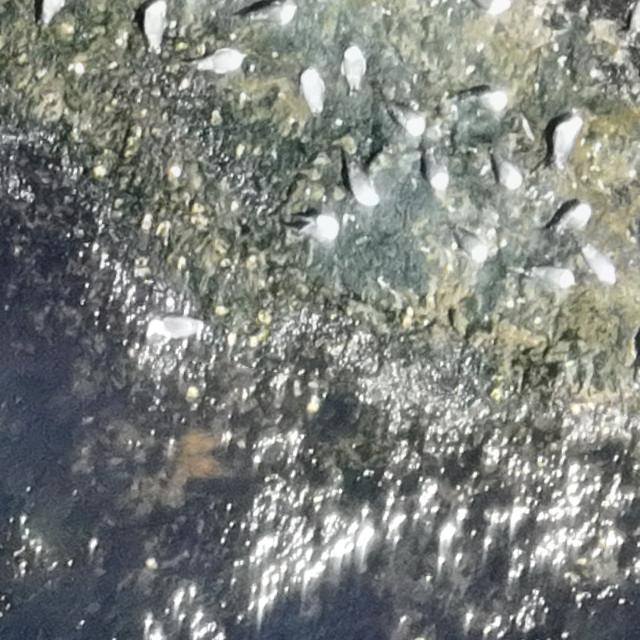umineko: (578, 236, 618, 286), (448, 216, 488, 262), (347, 158, 384, 206), (552, 115, 581, 172), (139, 1, 170, 54), (383, 98, 424, 135), (292, 210, 342, 240), (548, 204, 592, 236), (489, 149, 524, 188), (462, 84, 509, 112), (526, 261, 570, 290), (245, 2, 298, 26), (192, 50, 245, 73), (148, 316, 203, 338), (421, 148, 449, 191), (301, 68, 326, 116), (344, 50, 361, 86), (44, 1, 64, 23)
